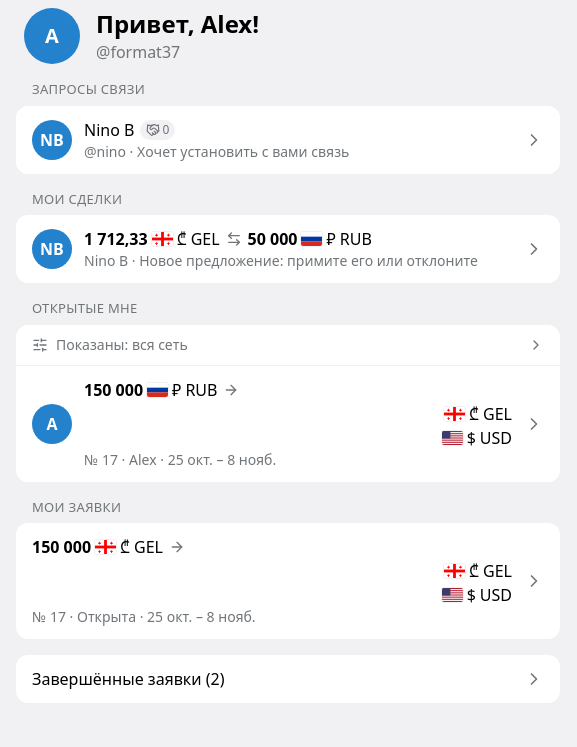
Test case: Home › shows link requests, my deals, orders open to me, then mine
Expected: the text "Закрыта" is not shown
Click the button "Завершённые заявки (2)": [128, 679] box [16,655,560,703]
(page scrolled)
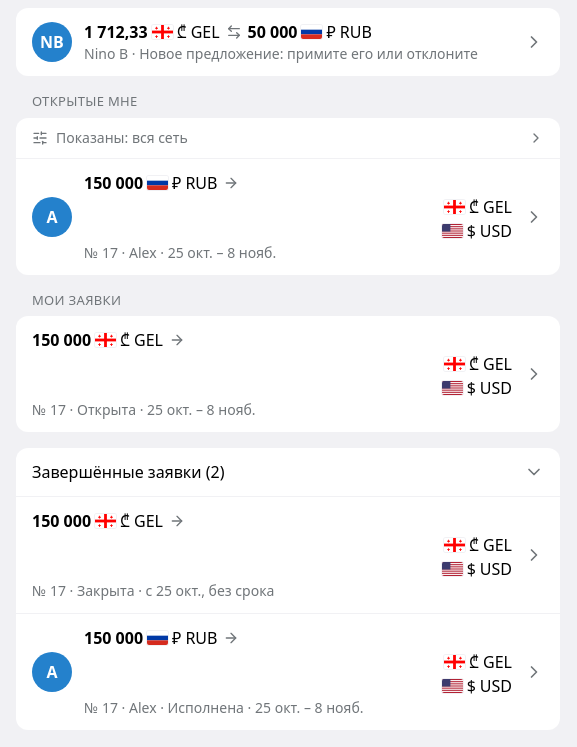
Result: the text "№ 17 · Закрыта · с 25 окт., без срока" is shown at [32,581,274,600]
